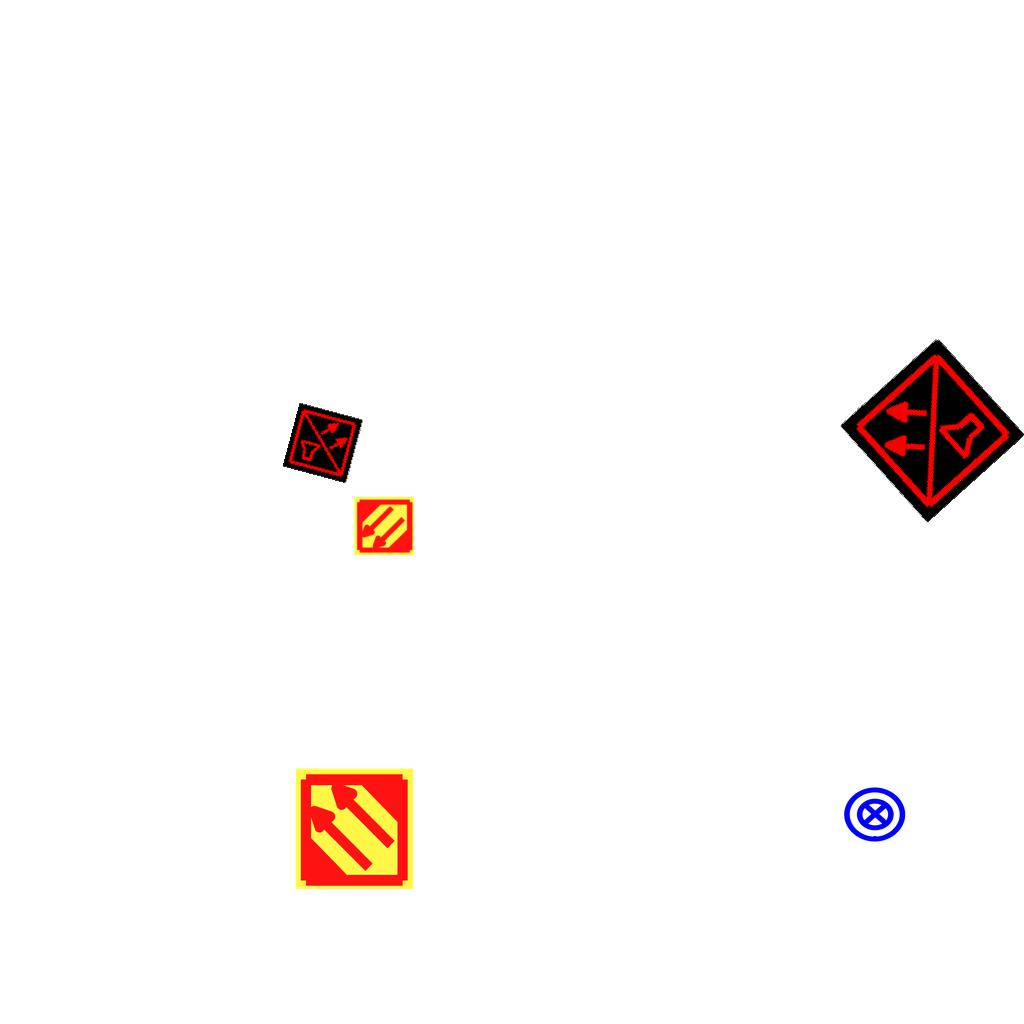ASR_Ansaugrauchmelder: (292, 766, 417, 891), (353, 495, 415, 557)
OKW_Multisensormelder_(Kombination_optischer_Rauch-Kahlenmonoxid_Waerme-Melder): (838, 336, 1024, 524), (282, 402, 364, 484)
Taster_beleuchtet: (842, 781, 908, 847)
